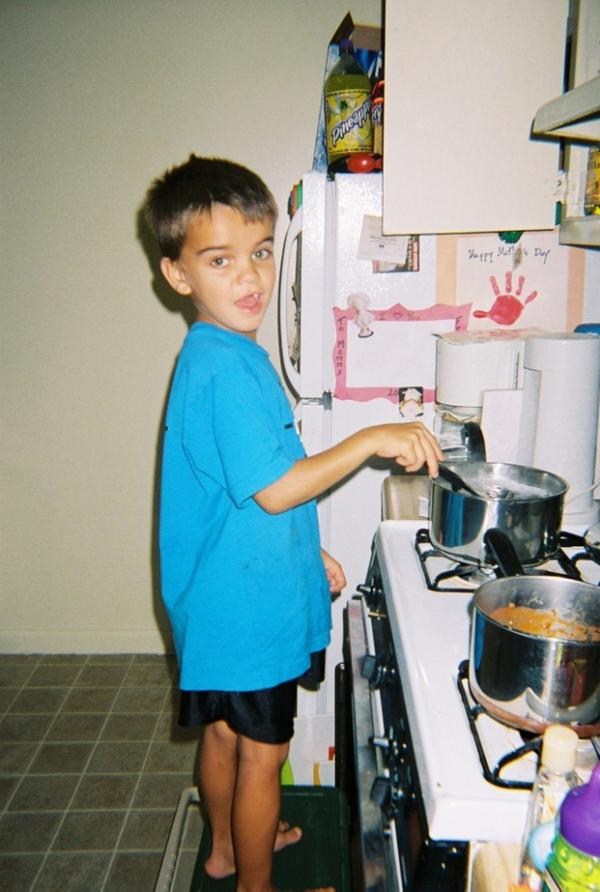person: (139, 147, 447, 890)
